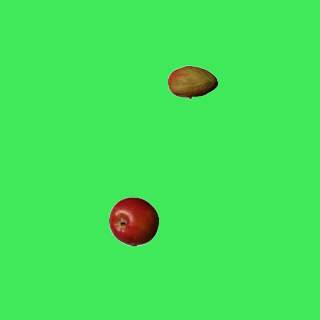Apple Braeburn: (108, 196, 158, 246)
Papaya: (167, 57, 217, 107)
